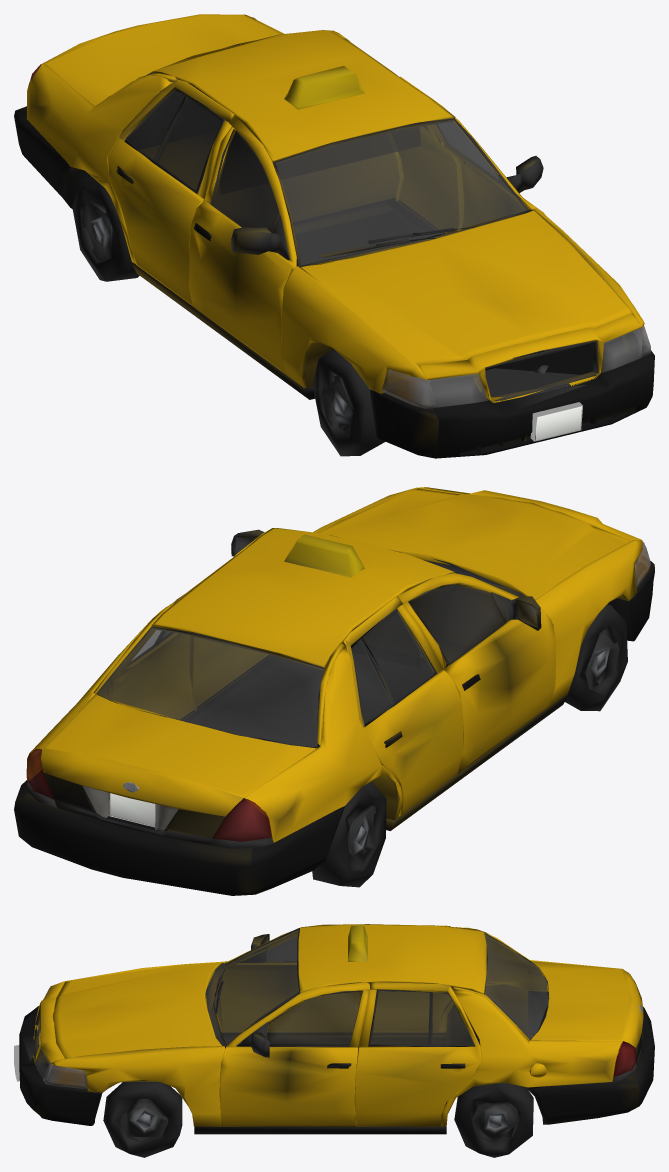
The picture shows the model from 3 angles, top to bottom: view 1: azimuth 30°, elevation 25°; view 2: azimuth 150°, elevation 25°; view 3: azimuth 270°, elevation 25°; orthographic projection. The views are drawn at different scales.
Visible parts, largest first — view 1: body, glass, wheel_FL, wheel_RL; view 2: body, glass, wheel_RL, wheel_FL; view 3: body, glass, wheel_FR, wheel_RR.
Boxes of the visible parts, <box> form: body: <box>14,14,654,458</box>; glass: <box>26,17,650,408</box>; wheel_FL: <box>312,349,385,456</box>; wheel_RL: <box>72,176,139,281</box>; body: <box>14,487,654,895</box>; glass: <box>26,542,650,841</box>; wheel_RL: <box>312,781,386,887</box>; wheel_FL: <box>565,604,627,711</box>; body: <box>14,924,654,1134</box>; glass: <box>35,929,636,1089</box>; wheel_FR: <box>103,1081,182,1157</box>; wheel_RR: <box>454,1082,533,1157</box>.
Size of the model in its own units: 2.18 by 1.65 by 5.39.
